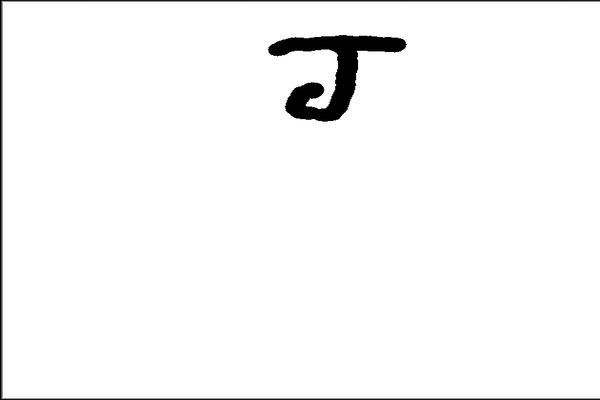J: (261, 28, 412, 127)
